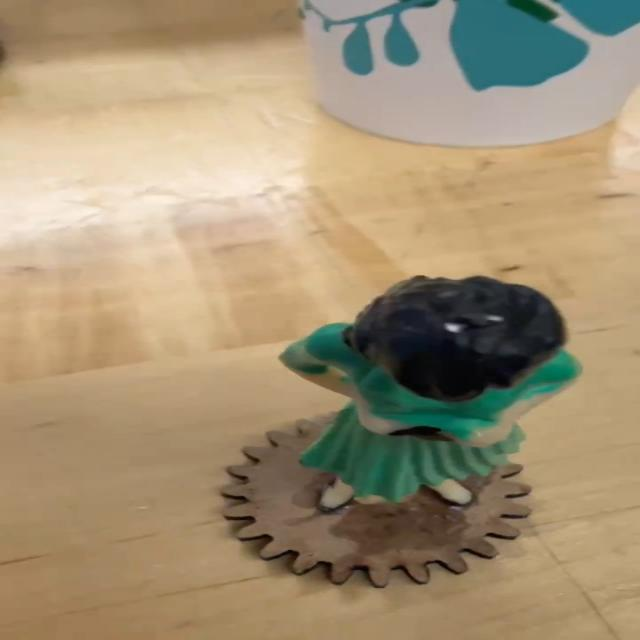Authorized: (282, 273, 586, 511)
